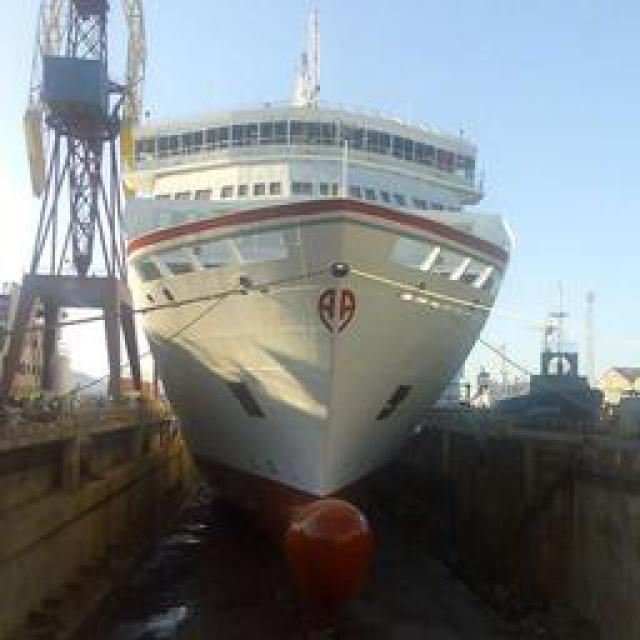Ship: (116, 84, 514, 482)
